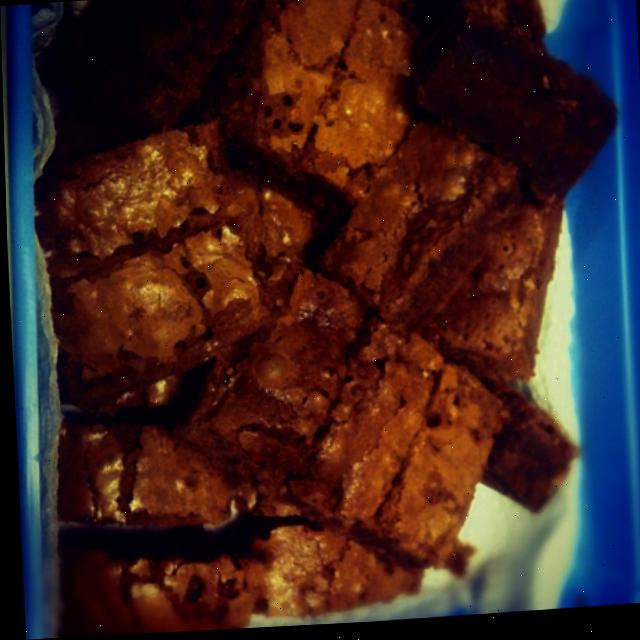蛋糕甜品: (31, 0, 624, 623)
